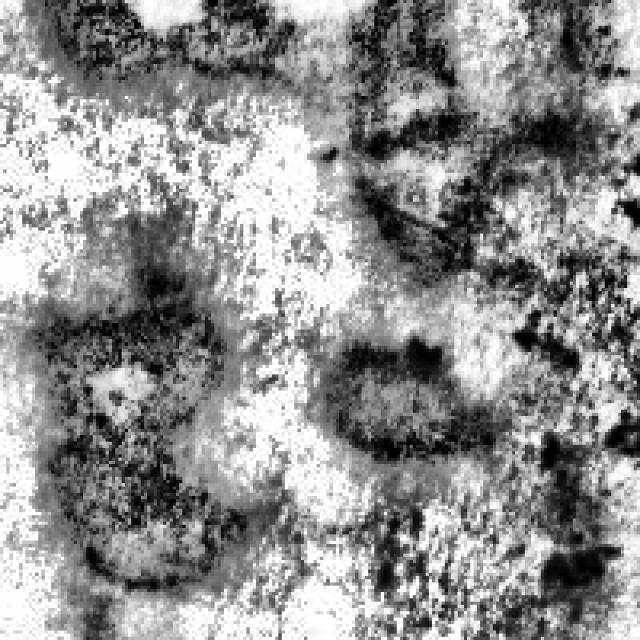Patches: (528, 522, 618, 598)
Scratches: (0, 208, 266, 614), (311, 0, 518, 298), (294, 321, 509, 474), (19, 0, 320, 90)
